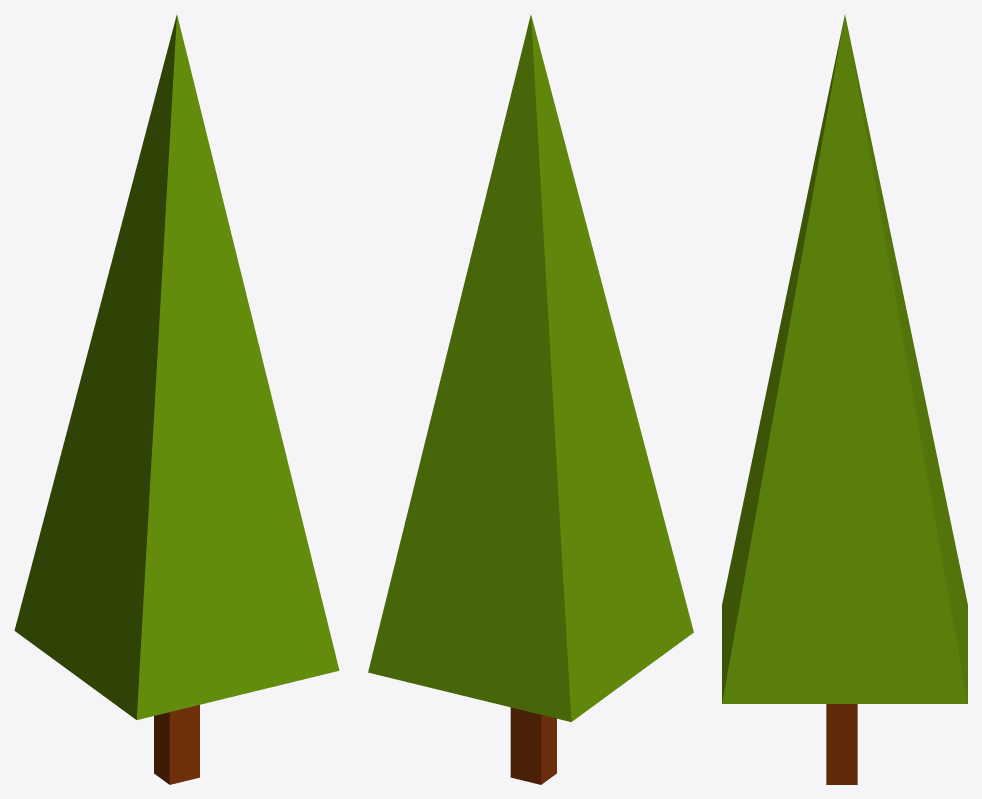
Rendered from Tree 02.FBX.
3 renders of one model, left to right at view 1: azimuth 30°, elevation 25°; view 2: azimuth 150°, elevation 25°; view 3: azimuth 270°, elevation 25°, orthographic.
Parts seen in each view (by area): view 1: Box001; view 2: Box001; view 3: Box001.
Boxes of the visible parts, box(x1,y1,x2,y2) form: Box001: box(14, 15, 339, 784); Box001: box(368, 15, 693, 784); Box001: box(722, 15, 967, 784).
Bounding box in the file's own units: 4.6 × 16.49 × 4.81.
